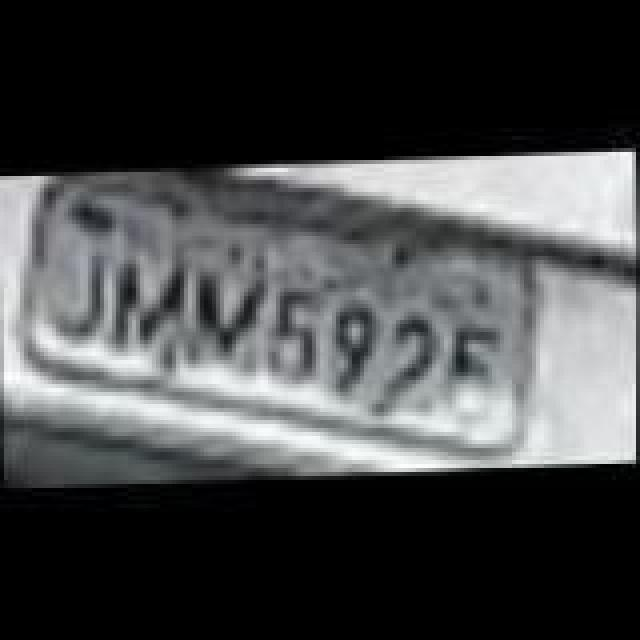2: (374, 310, 438, 422)
5: (444, 318, 512, 422), (262, 284, 326, 384)
9: (326, 302, 382, 398)
J: (46, 242, 110, 350)
M: (186, 262, 274, 382), (104, 254, 188, 370)
